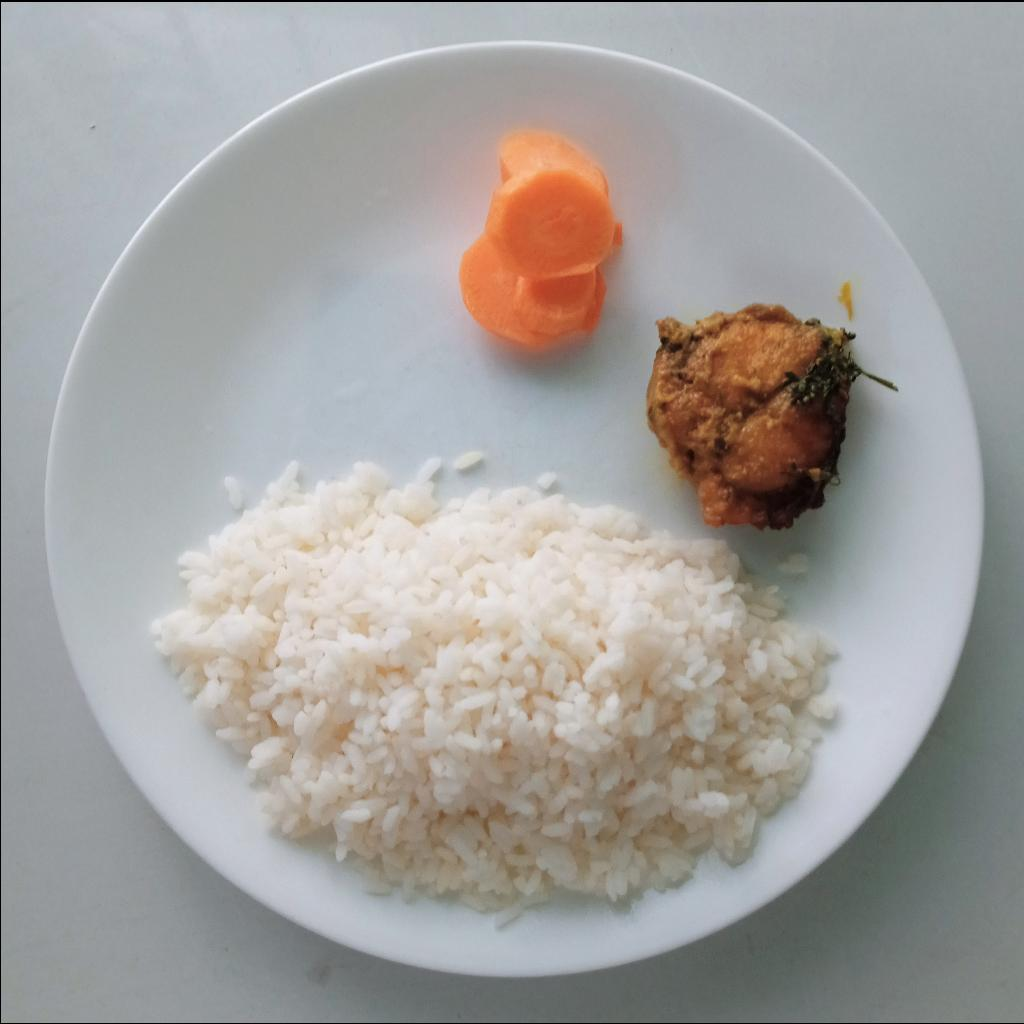carrot: (458, 128, 625, 353)
fish: (645, 300, 862, 532)
rice: (147, 456, 840, 932)
